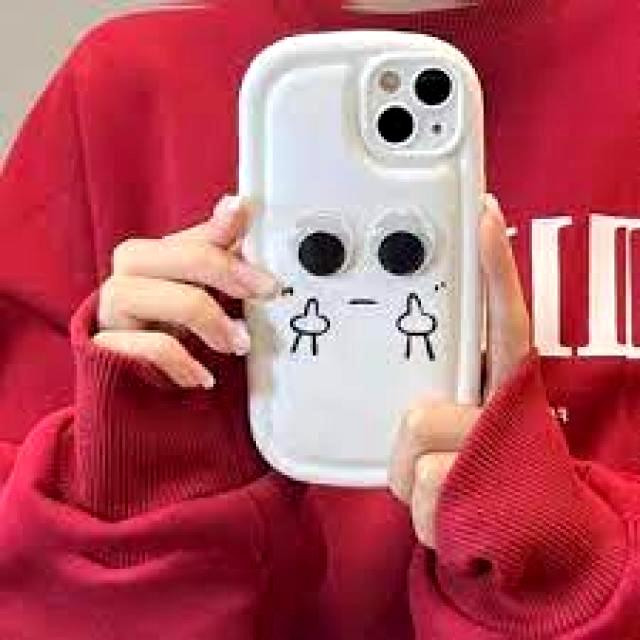lens_back: (371, 102, 420, 148), (406, 70, 457, 109)
phone: (233, 23, 488, 488)
